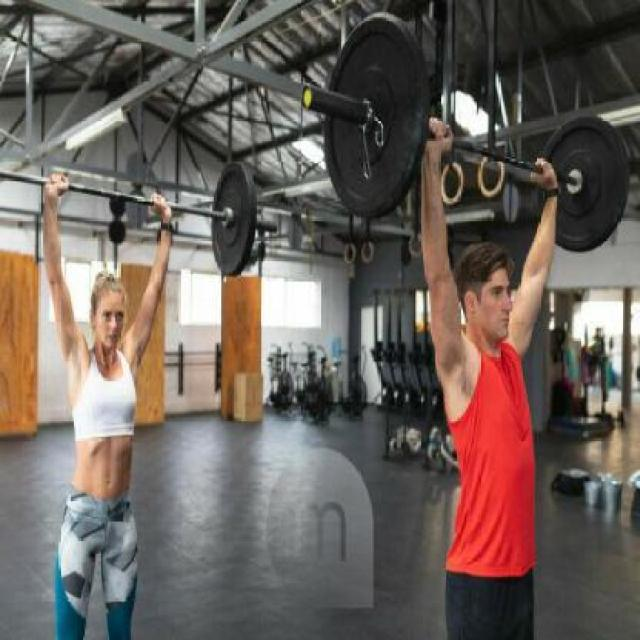barbell: (299, 11, 435, 224)
